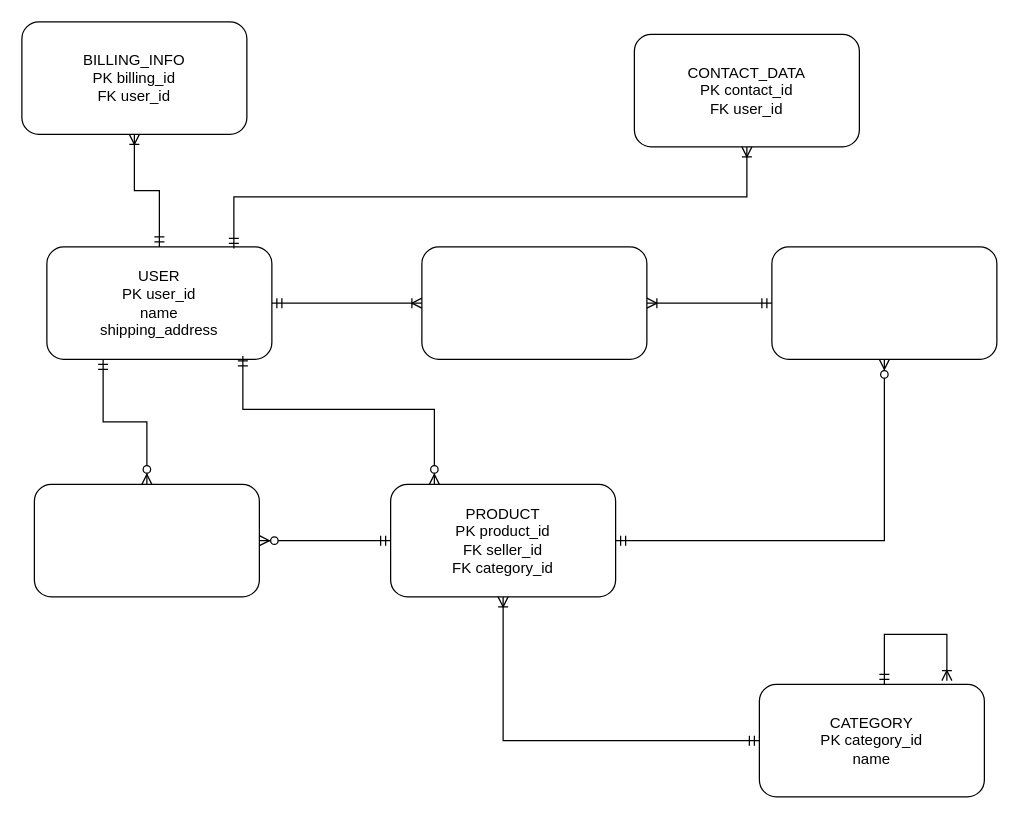
This 1019x819 diagram has some shape labels left out. The centre of each missing label's shape, as x and y in pixels:
REVIEW PK review_id FK user_id FK product_id: (x=146, y=540)
TRANSACTION PK transaction_id FK product_id: (x=884, y=302)
USER_TRANSACTION PK user_transaction_id FK user_id FK transaction_id: (x=534, y=302)
